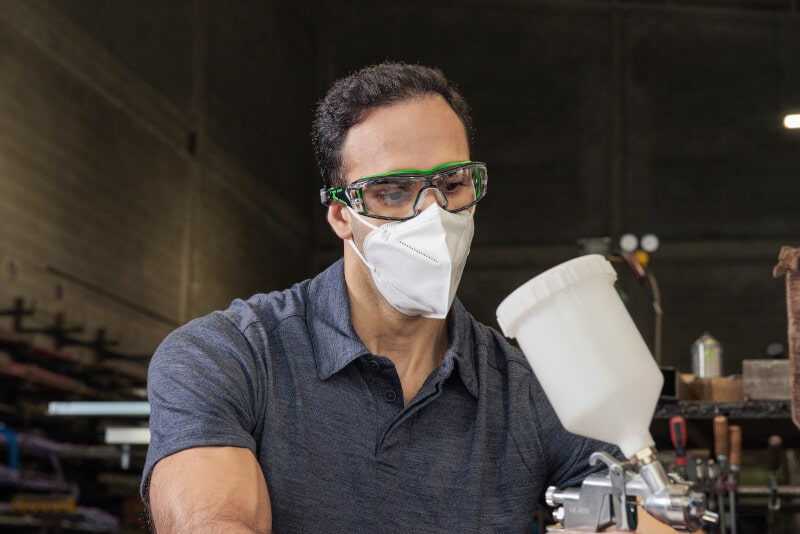Safety Glasses: (302, 152, 515, 223)
